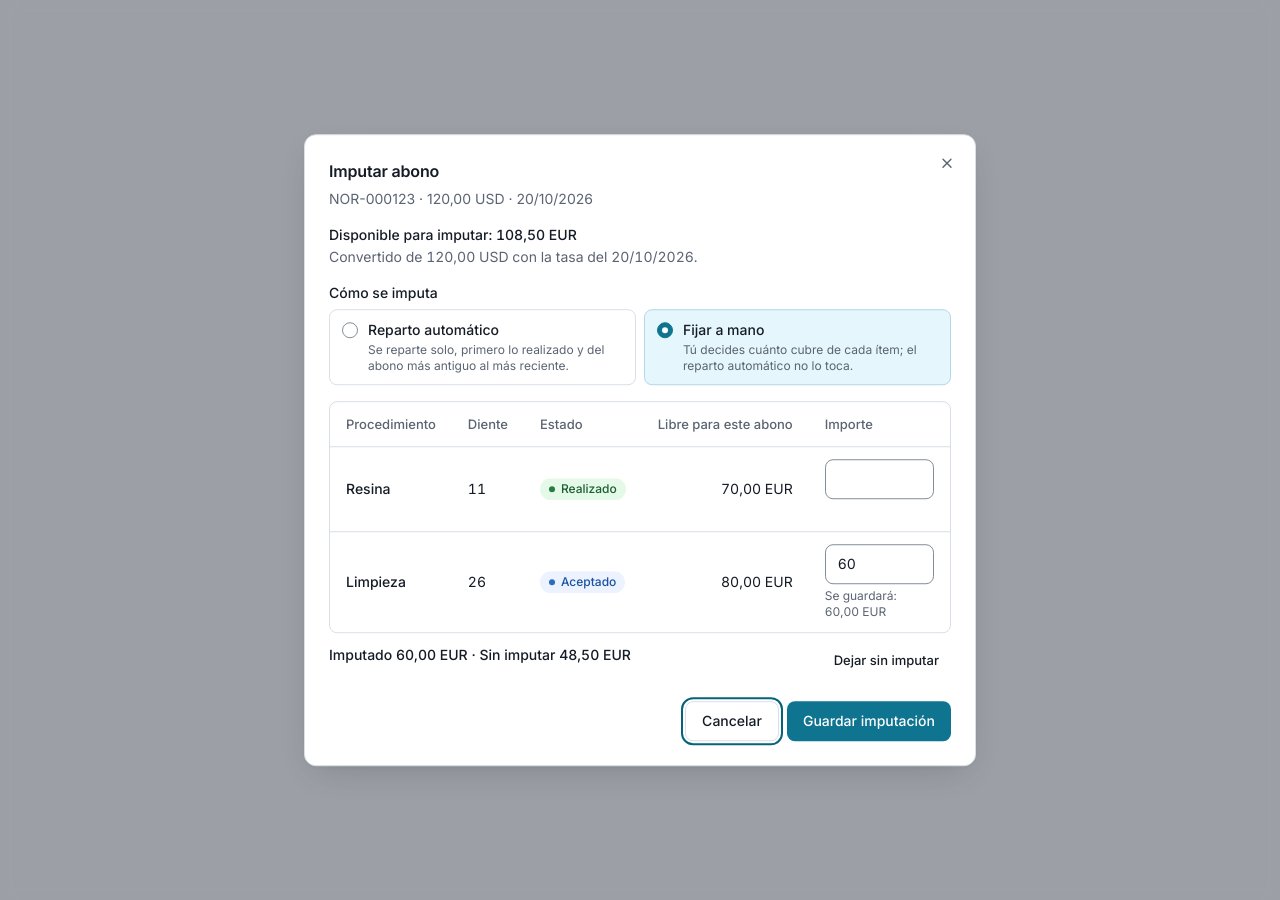
Test case: ReallocatePaymentModal (DX-051) › 409 version shows server message and Volver a cargar reloads
Click the button "Guardar imputación" at (869, 721), box [787,701,951,741]
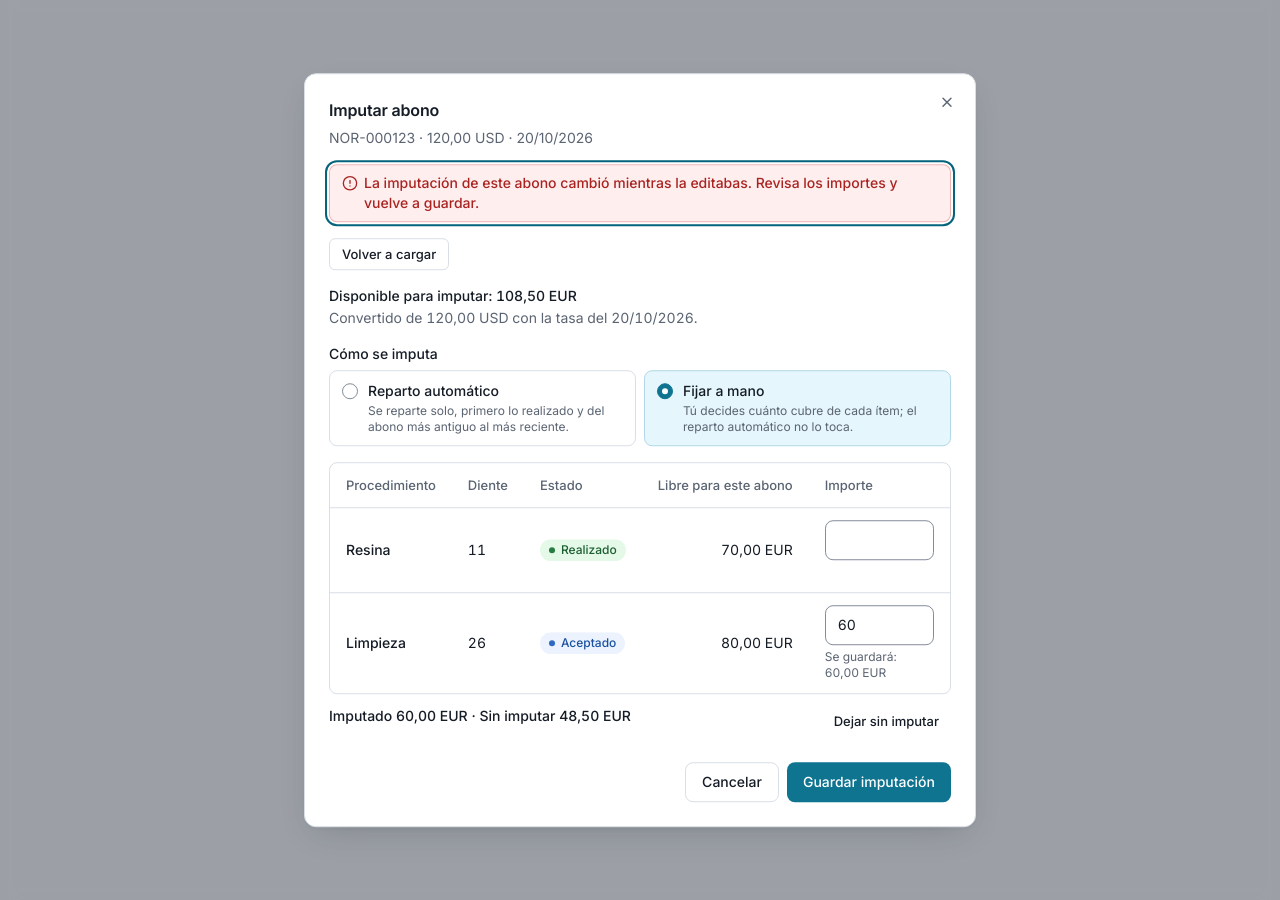
Expected: the text "La imputación de este abono cambió mientras la editabas. Revisa los importes y vuelve a guardar." is shown, [364,174,898,211]
Click the button "Volver a cargar" at (389, 254), box [329,238,449,270]
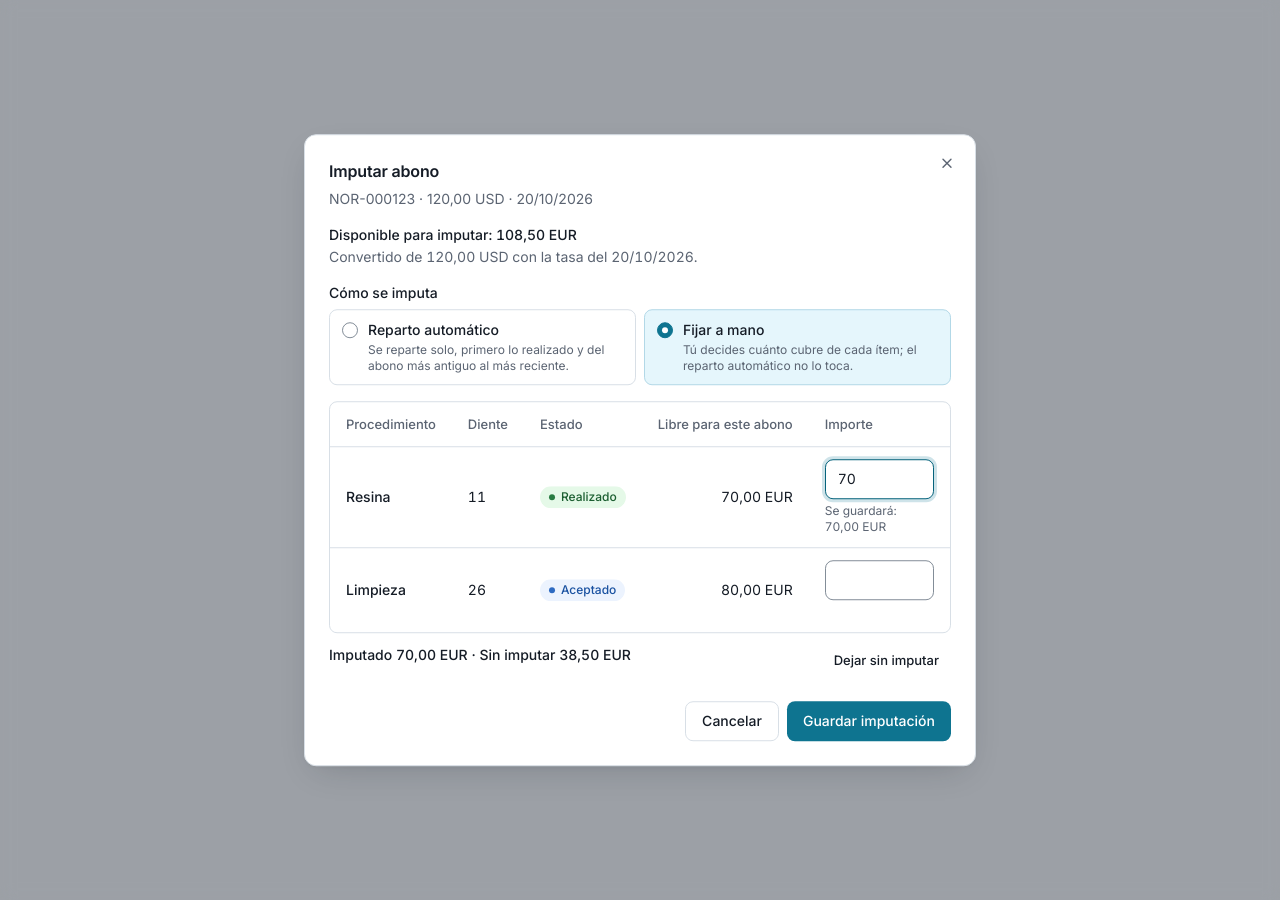
Expected: the field named "Importe para Resina del diente 11" in the row of "Resina" holds "70", [825,459,934,499]
Expected: the field named "Importe para Limpieza del diente 26" in the row of "Limpieza" is empty, [825,560,934,600]
Expected: the text "La imputación de este abono cambió mientras la editabas. Revisa los importes y vuelve a guardar." is gone
